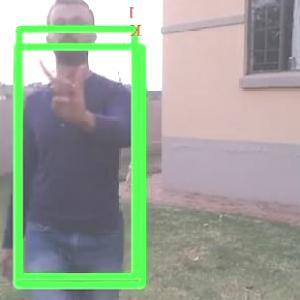takeoff-hand: (34, 51, 90, 119)
